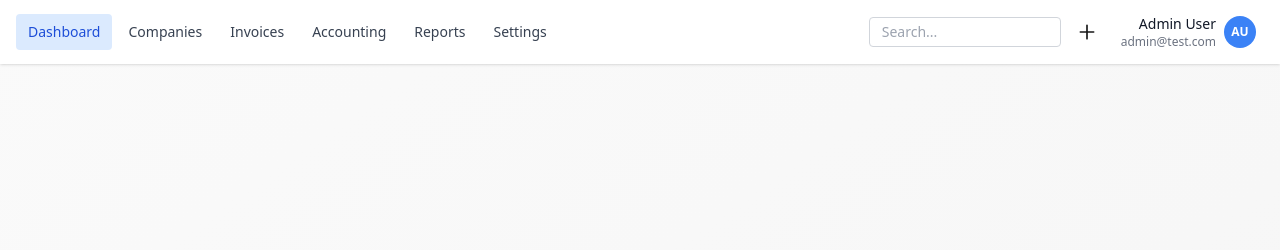
Navigation Component › User Menu › should show user dropdown
The image size is (1280, 250).
Click the text "Admin User": (1177, 24) [1139,14,1216,33]
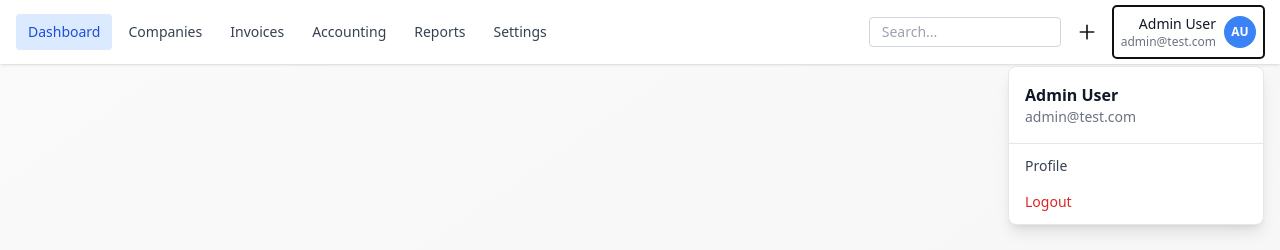
Check: the link "Profile" is shown, box [1025,156,1067,175]
Check: the button "Logout" is shown, box [1009,184,1263,220]
